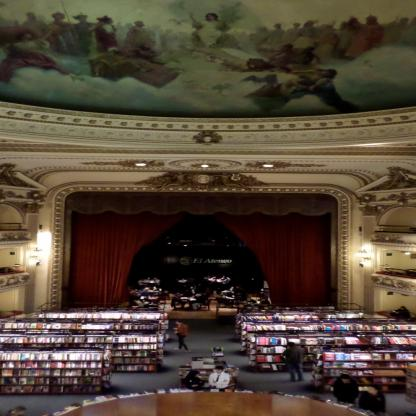book: (267, 392, 378, 416), (0, 335, 161, 349), (44, 394, 114, 416), (0, 349, 107, 361), (3, 323, 166, 330), (0, 361, 102, 371), (0, 386, 112, 394), (315, 361, 411, 370), (0, 377, 105, 385), (36, 311, 170, 317), (316, 353, 416, 361), (324, 376, 400, 386), (245, 336, 319, 346), (247, 345, 320, 355), (0, 369, 100, 376), (240, 314, 324, 322), (114, 388, 169, 399), (322, 325, 370, 336), (246, 323, 302, 332), (370, 324, 416, 334), (192, 386, 268, 392), (105, 349, 155, 358), (370, 335, 416, 344), (318, 370, 377, 377), (315, 336, 366, 344), (114, 363, 159, 372), (252, 354, 291, 363), (323, 312, 364, 320), (109, 356, 152, 363), (296, 324, 323, 335), (257, 364, 281, 372), (166, 387, 183, 393), (178, 388, 190, 391)
